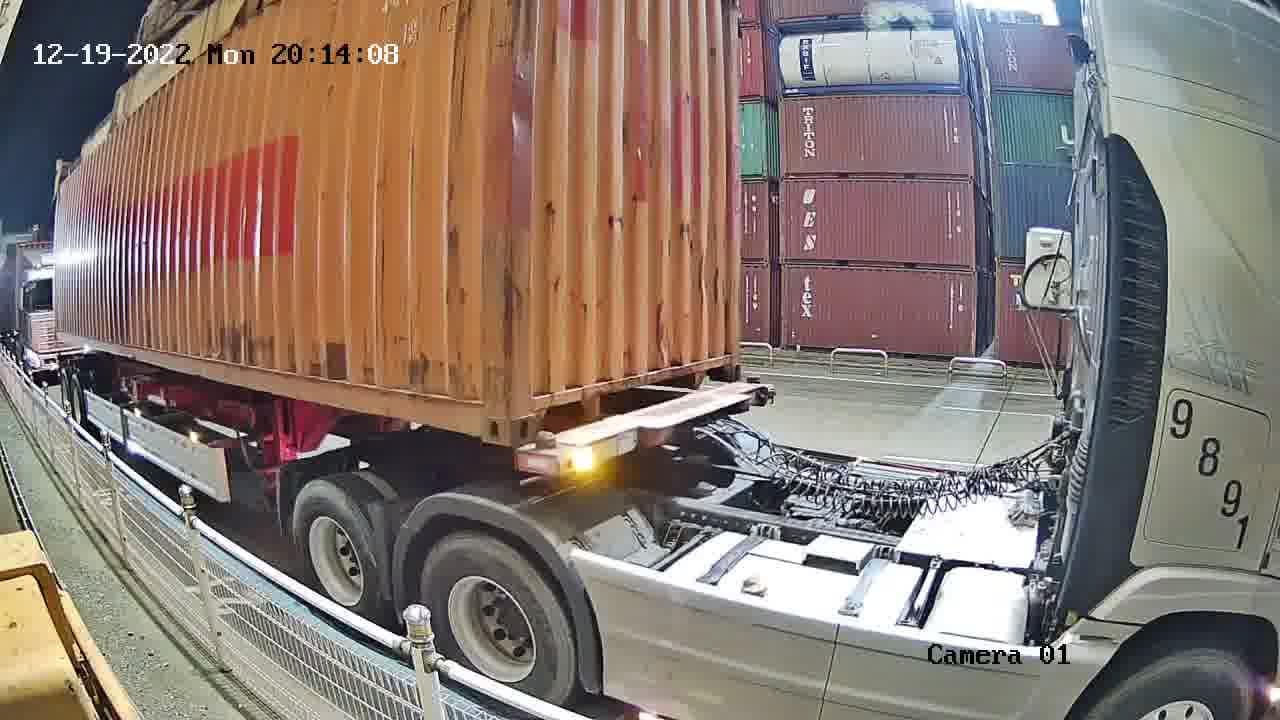Chassis: (514, 382, 768, 480)
Cone: (525, 432, 558, 482), (740, 373, 764, 393)
Hole_L: (510, 378, 560, 447)
Hole_R: (453, 370, 509, 447), (705, 332, 741, 387)
Tire: (420, 535, 575, 705), (293, 481, 377, 614)
